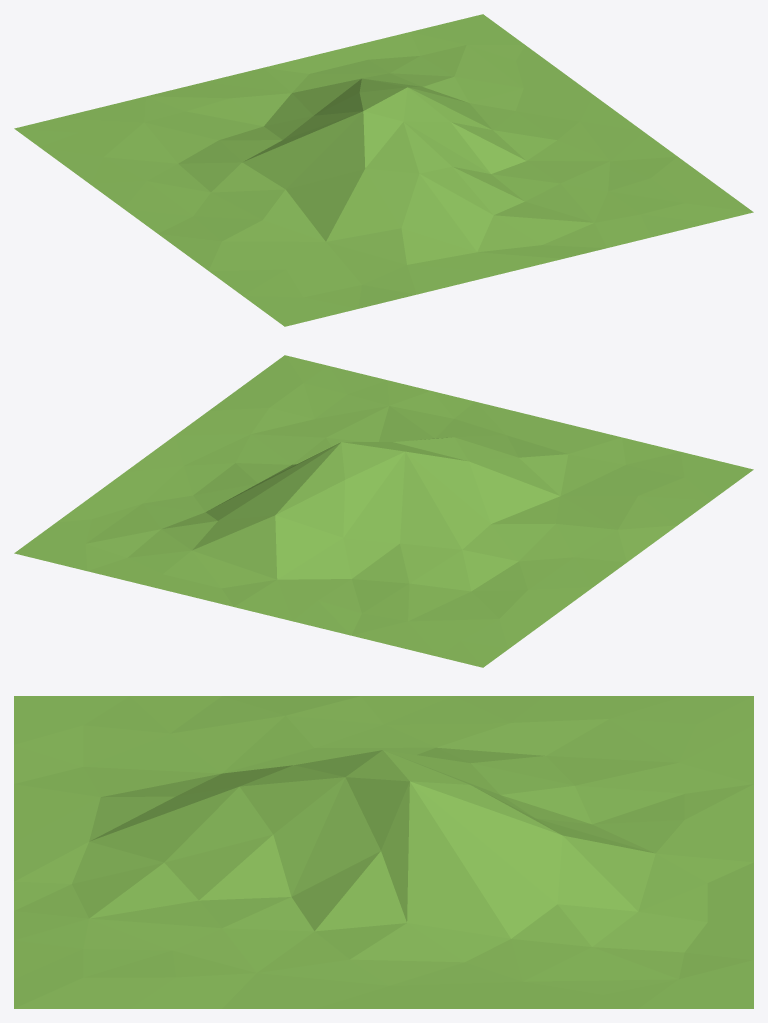
File: MT_Terrain_S_a_20.fbx
The picture shows the model from 3 angles, top to bottom: view 1: azimuth 30°, elevation 25°; view 2: azimuth 150°, elevation 25°; view 3: azimuth 270°, elevation 25°; orthographic projection. The views are drawn at different scales.
Parts seen in each view (by area): view 1: MT_Terrain_S_a_20; view 2: MT_Terrain_S_a_20; view 3: MT_Terrain_S_a_20.
Boxes of the visible parts, bbox=[...] form: MT_Terrain_S_a_20: bbox=[14, 14, 753, 326]; MT_Terrain_S_a_20: bbox=[14, 355, 753, 667]; MT_Terrain_S_a_20: bbox=[14, 696, 753, 1008].
Size of the model in its own units: 2500 by 356 by 2500.
